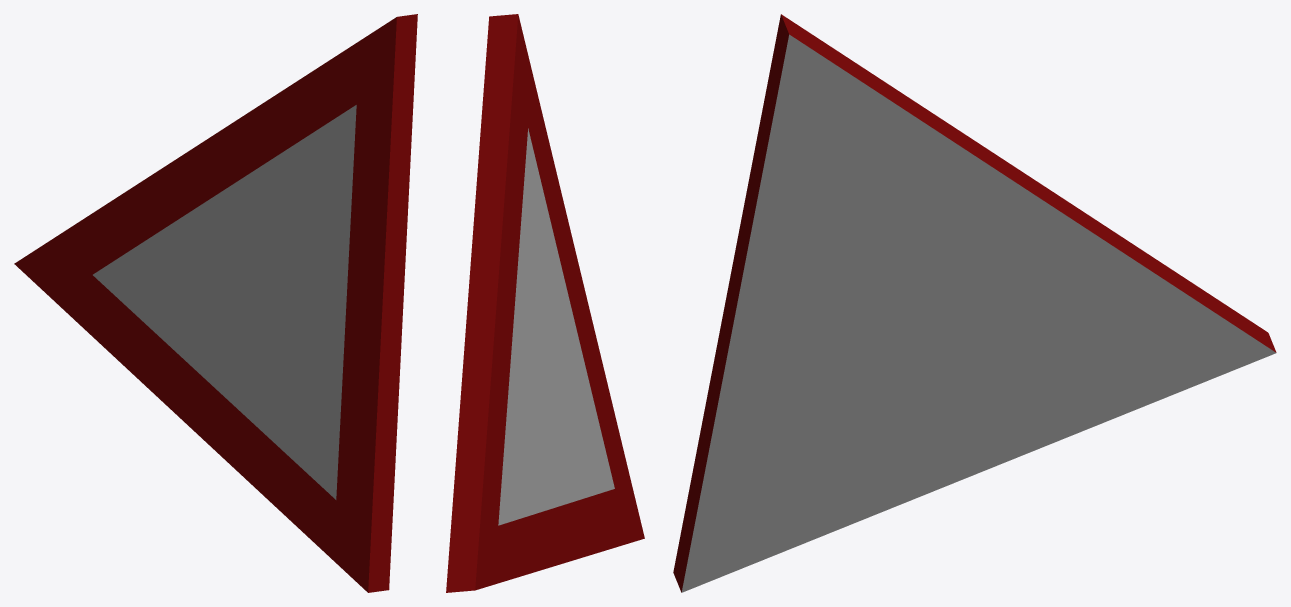
File: Señal.fbx
3 views of the same model, side by side, from view 1: azimuth 30°, elevation 25°; view 2: azimuth 150°, elevation 25°; view 3: azimuth 270°, elevation 25° (orthographic). The views are drawn at different scales.
Visible parts, largest first — view 1: Level05_WarningSign04; view 2: Level05_WarningSign04; view 3: Level05_WarningSign04.
Part boxes in pixels (x1,y1,x2,y2): Level05_WarningSign04: (14,14,417,592); Level05_WarningSign04: (446,14,644,592); Level05_WarningSign04: (673,14,1276,592).
Bounding box in the file's own units: 40.02 × 104 × 93.34.
